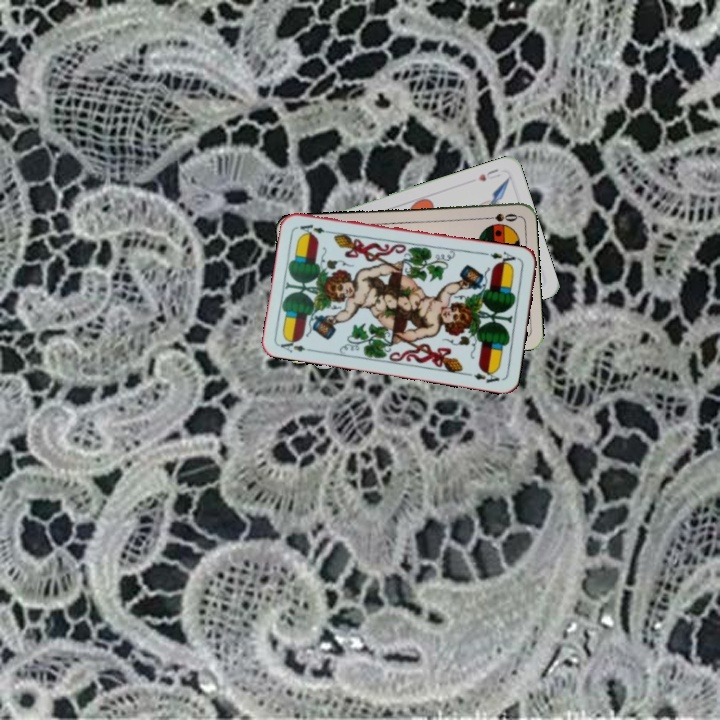EA: (481, 247, 522, 268), (276, 334, 316, 355)
HU: (474, 165, 503, 184)
SO: (479, 209, 520, 224)
